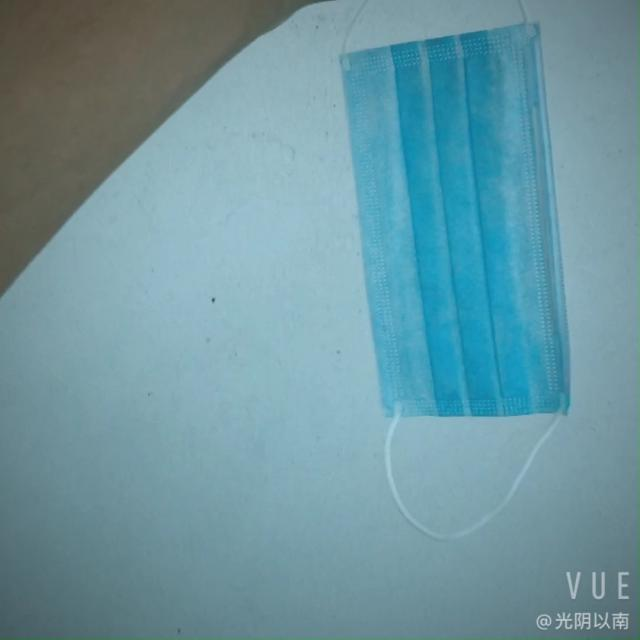non-organic waste: (317, 21, 584, 428)
